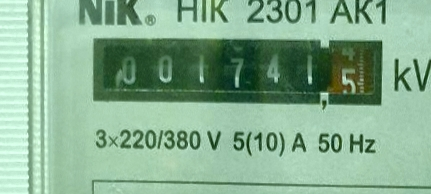0: (154, 50, 174, 85), (118, 52, 138, 86)
1: (190, 49, 208, 86), (300, 52, 316, 87)
4: (262, 50, 283, 85), (339, 44, 355, 62)
5: (337, 64, 357, 95)
7: (226, 54, 244, 89)
screen: (84, 25, 390, 115)
